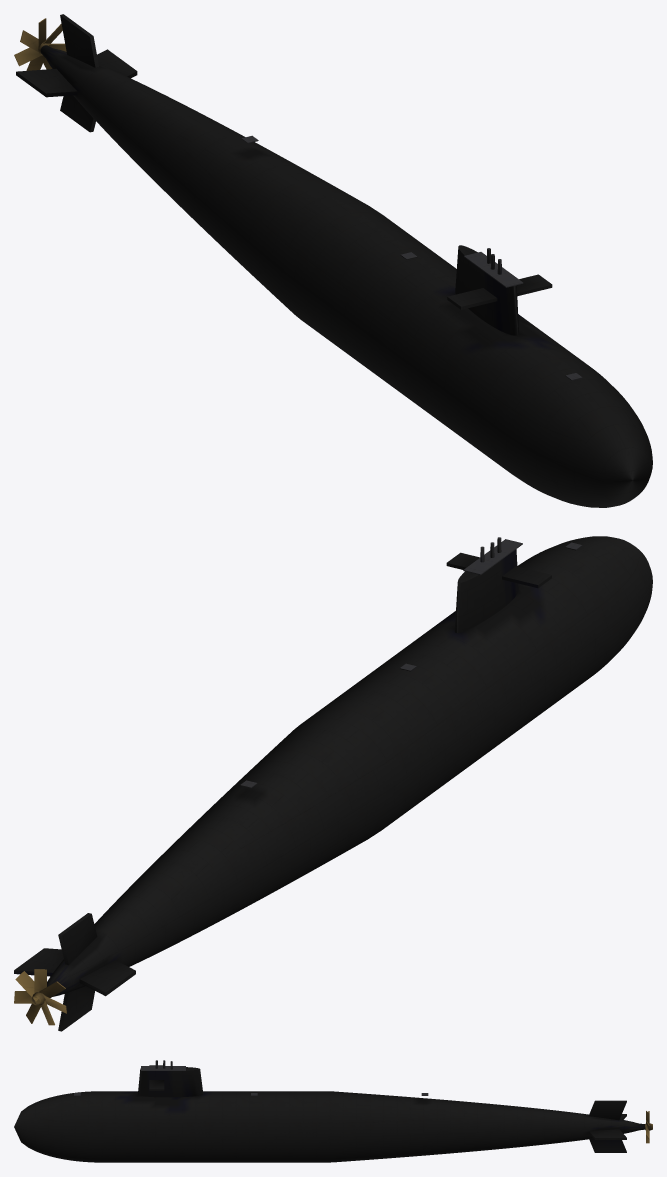
Rendered from model_built.glb.
3 renders of one model, top to bottom at view 1: azimuth 30°, elevation 25°; view 2: azimuth 150°, elevation 25°; view 3: azimuth 270°, elevation 25°, orthographic. The views are drawn at different scales.
Parts seen in each view (by area): view 1: boat; view 2: boat; view 3: boat.
Part boxes in pixels (bbox=[...]): boat: bbox=[14, 14, 652, 507]; boat: bbox=[14, 536, 652, 1031]; boat: bbox=[14, 1060, 652, 1162].
Bounding box in the file's own units: 9.6 × 14.6 × 85.8.
1 material, 1 textured.
